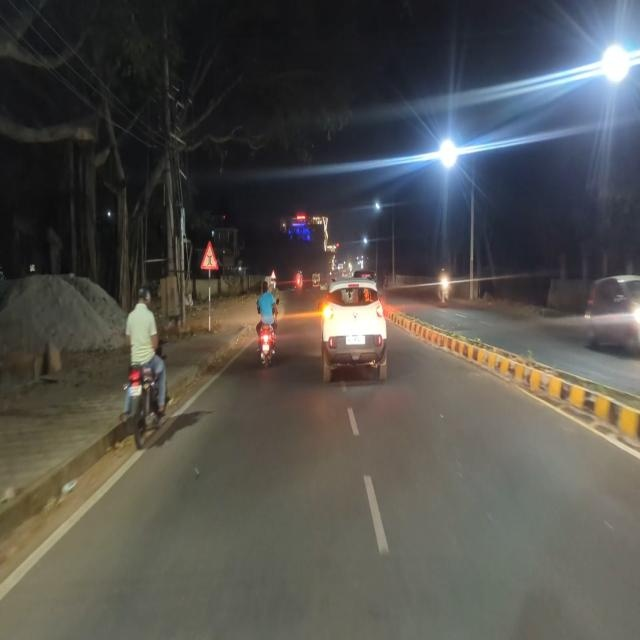bien_nguy_hiem: (200, 240, 220, 270)
